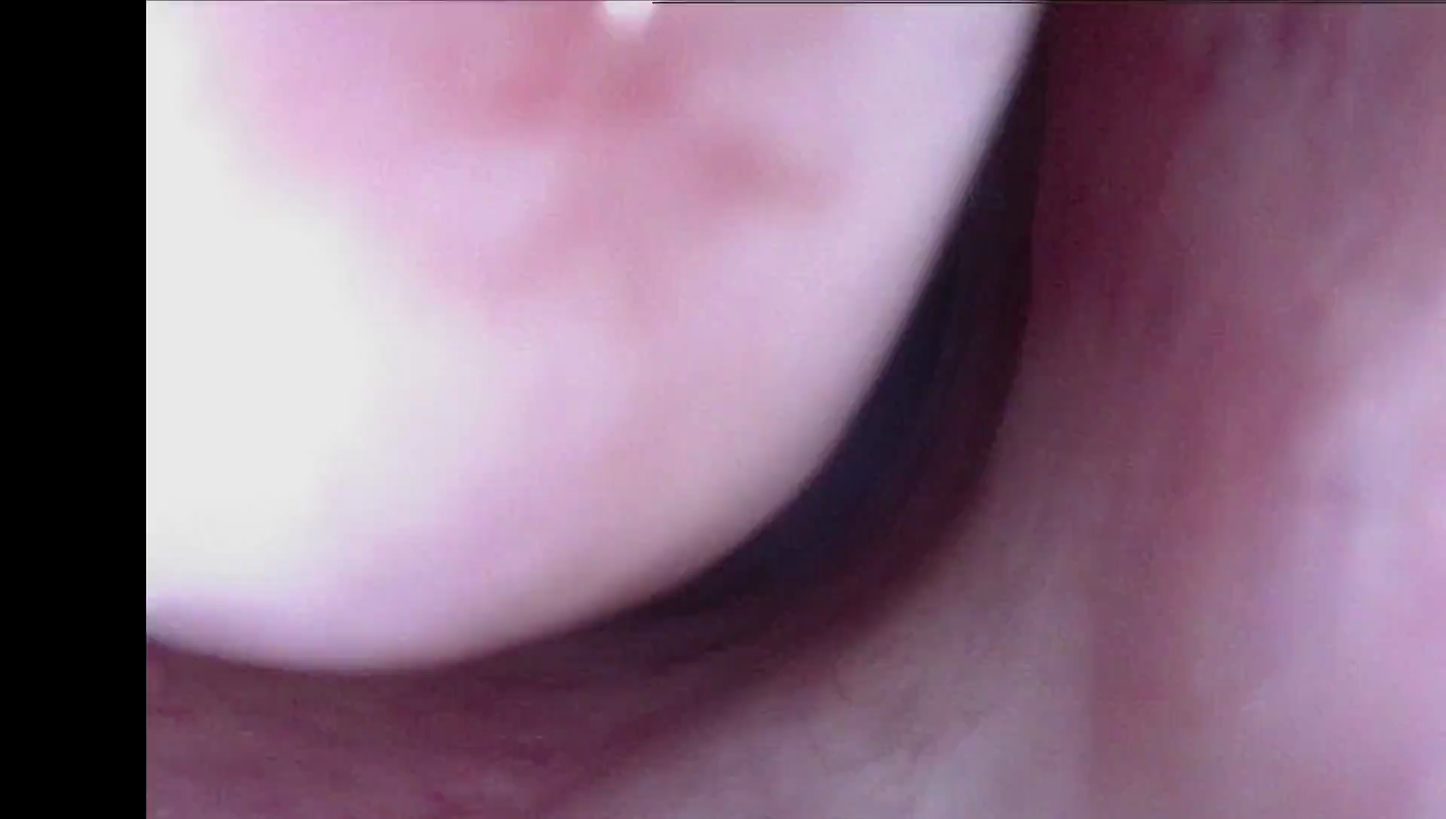close_wall: (107, 17, 876, 607), (1107, 74, 1446, 819)
next: (624, 69, 1047, 675)
